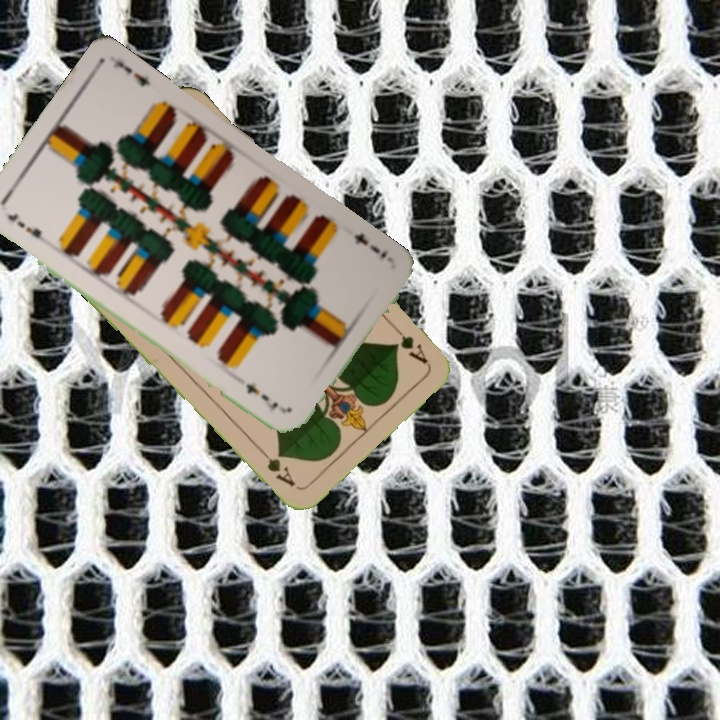E7: (2, 209, 52, 248), (350, 229, 390, 261)
GA: (385, 318, 431, 367)
